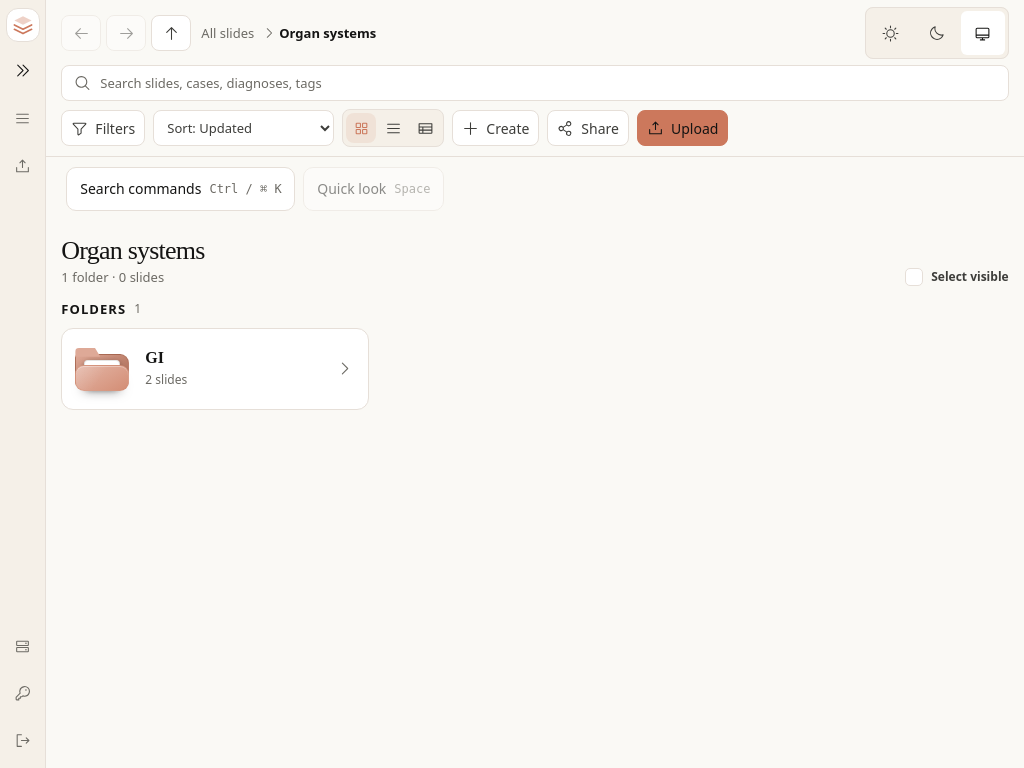
Test case: Canvas Focus library explorer › shows and opens child folders instead of showing an empty-folder message
This screenshot has width=1024, height=768.
Expected: the heading "No files in this folder" is not shown
Expected: the text "1 folder · 0 slides" is shown, [61, 268, 164, 286]
What coordinates should you click on to do the following:
click the button with aria-label "Open folder GI"
I would click on:
 (102, 372)
Its box is [61, 328, 369, 410].
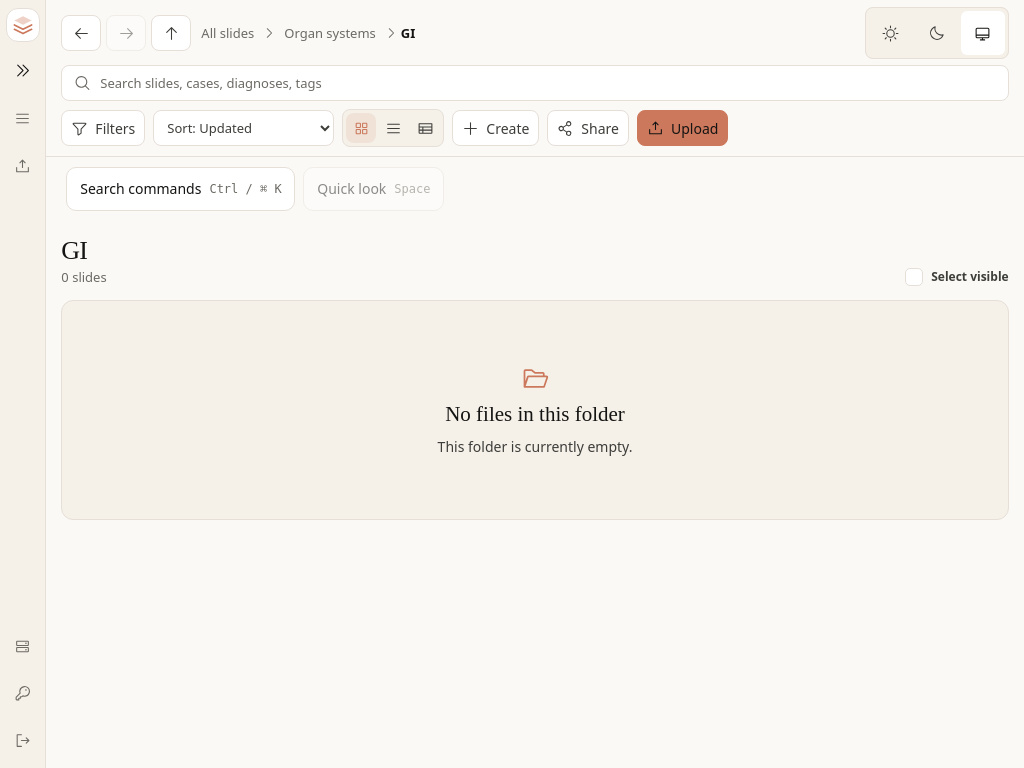
Result: the heading "GI" is shown at [61, 236, 87, 265]
